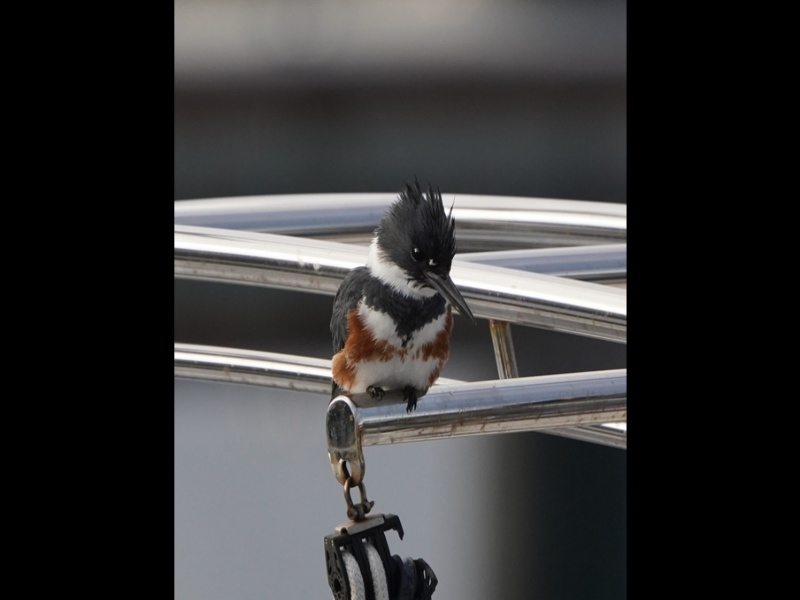kingfisher: (324, 180, 476, 414)
